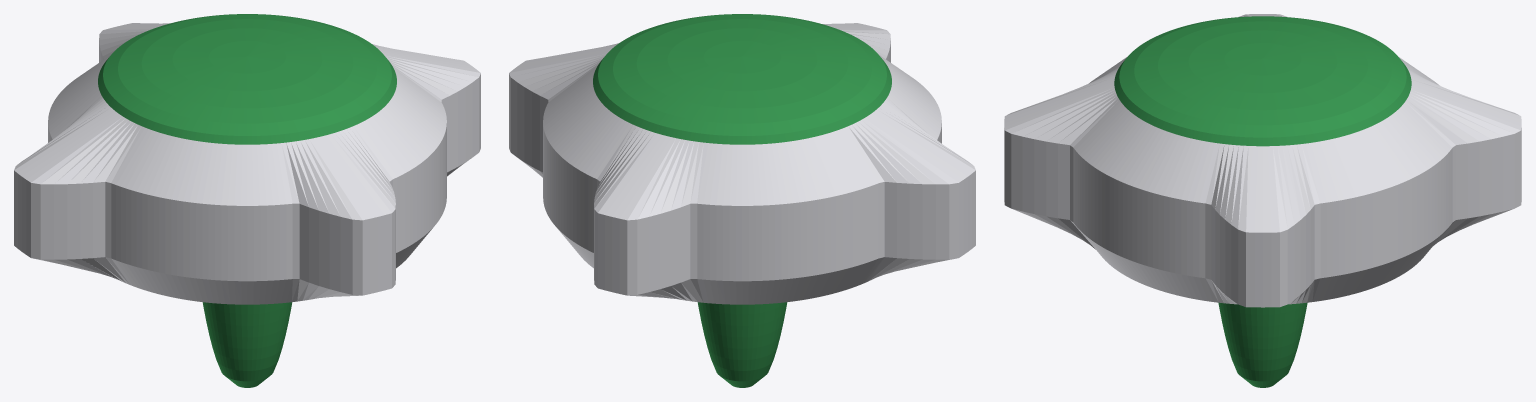
The model's file is top_stamina.obj.
3 views of the same model, side by side, from view 1: azimuth 30°, elevation 25°; view 2: azimuth 150°, elevation 25°; view 3: azimuth 270°, elevation 25° (orthographic).
Visible parts, largest first — view 1: Stamina; view 2: Stamina; view 3: Stamina.
Boxes of the visible parts, left/top/right/bottom form: Stamina: left=14, top=14, right=480, bottom=387; Stamina: left=509, top=14, right=975, bottom=387; Stamina: left=1004, top=14, right=1521, bottom=387.
Bounding box in the file's own units: 0.0451 × 0.0312 × 0.0451.
